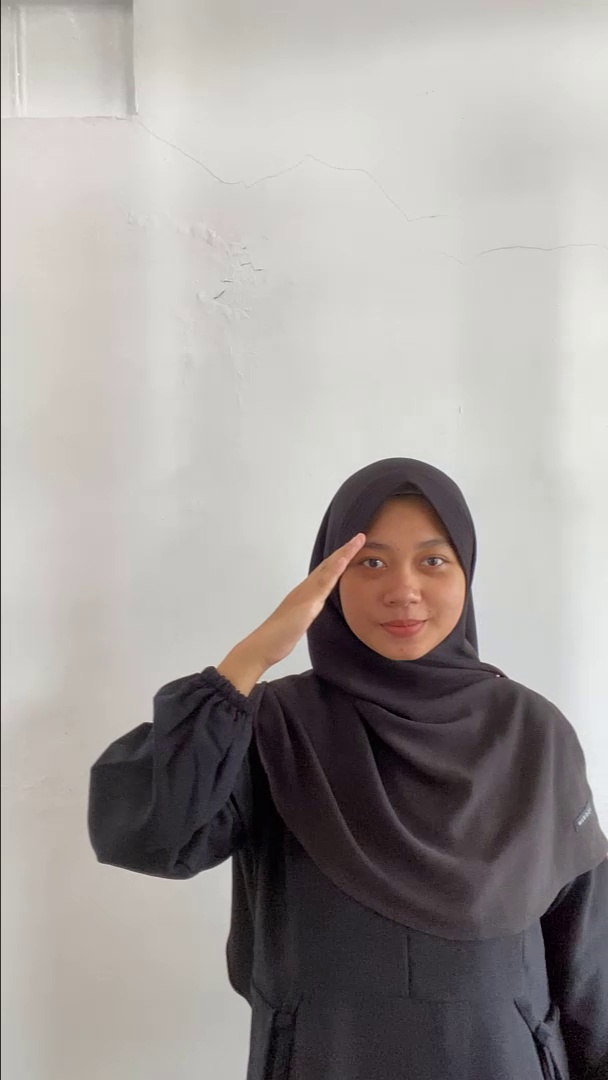SENIN: (197, 523, 370, 707)
